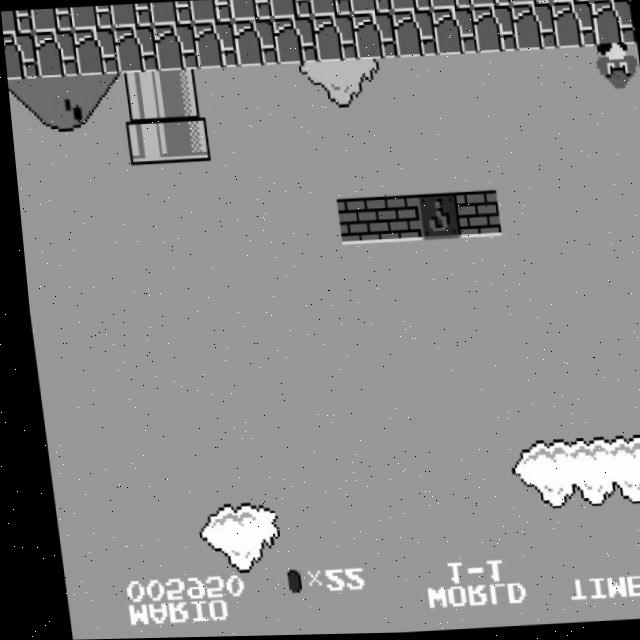1- brick_block: (331, 198, 378, 246), (450, 192, 497, 239), (371, 196, 417, 244)
13- mystery_block: (410, 194, 457, 242)
14- pipe: (116, 72, 163, 120), (156, 70, 203, 117)
15- pipe_head: (121, 117, 168, 165), (161, 115, 208, 163)
17- undestructible_block: (71, 28, 118, 76), (111, 26, 158, 74), (390, 11, 437, 59), (430, 9, 477, 57), (470, 7, 517, 55), (510, 5, 557, 53), (589, 1, 636, 49), (31, 30, 78, 77), (151, 24, 198, 71), (550, 3, 597, 50), (191, 21, 237, 69), (231, 20, 277, 68), (311, 15, 357, 63), (351, 13, 397, 61), (271, 18, 317, 65), (3, 32, 37, 80), (29, 8, 73, 33), (109, 3, 153, 28), (149, 1, 193, 26), (69, 6, 113, 30), (189, 0, 233, 24), (229, 0, 272, 22), (268, 0, 312, 20), (308, 0, 352, 18), (1, 10, 33, 34), (348, 0, 392, 15), (388, 0, 432, 13), (428, 0, 471, 12), (468, 0, 511, 9), (508, 0, 551, 7), (548, 0, 591, 4), (587, 0, 630, 3)
8- goomba: (590, 44, 639, 95)
